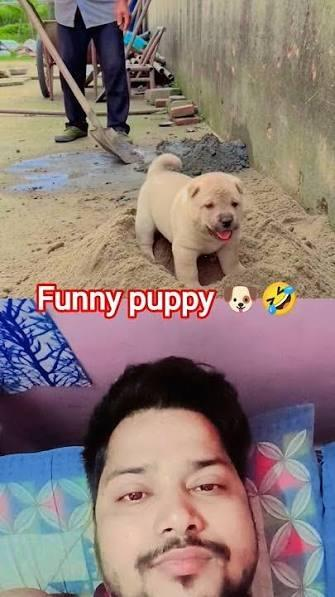non-dog: (78, 354, 261, 597), (49, 0, 139, 145)
puppy-dog: (134, 151, 245, 292)
